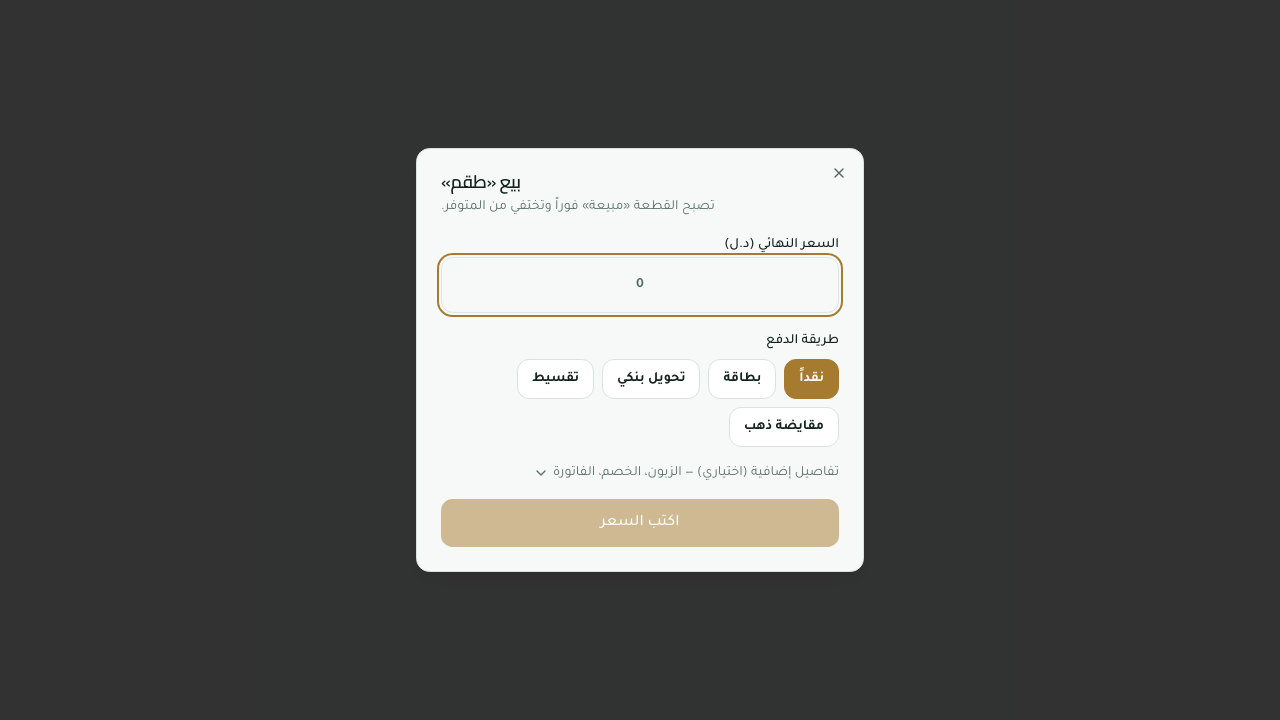
Test case: SellDialog › accepts Arabic-keyboard digits instead of rejecting the price
Type "٤٥٠٠" into the field labelled "السعر النهائي (د.ل)" at (640, 285), box x1=441 y1=257 x2=839 y2=313
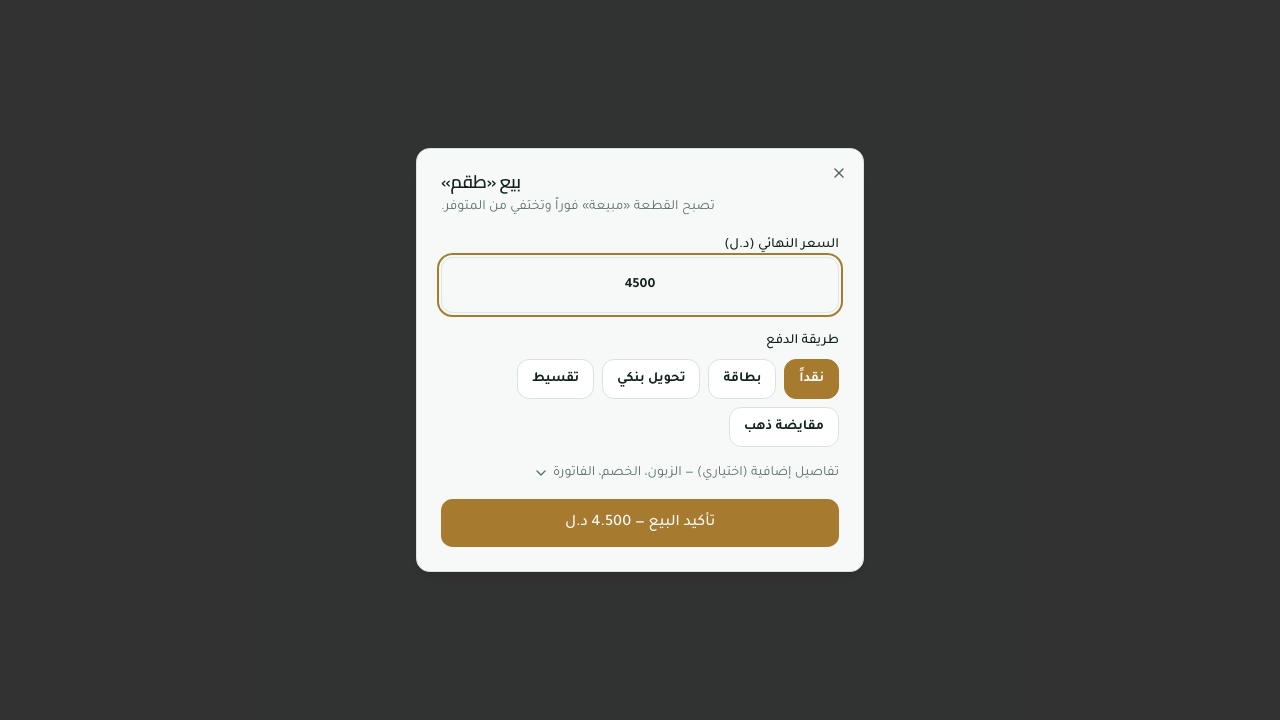
Expected: the field labelled "السعر النهائي (د.ل)" holds "4500", x1=441 y1=257 x2=839 y2=313
